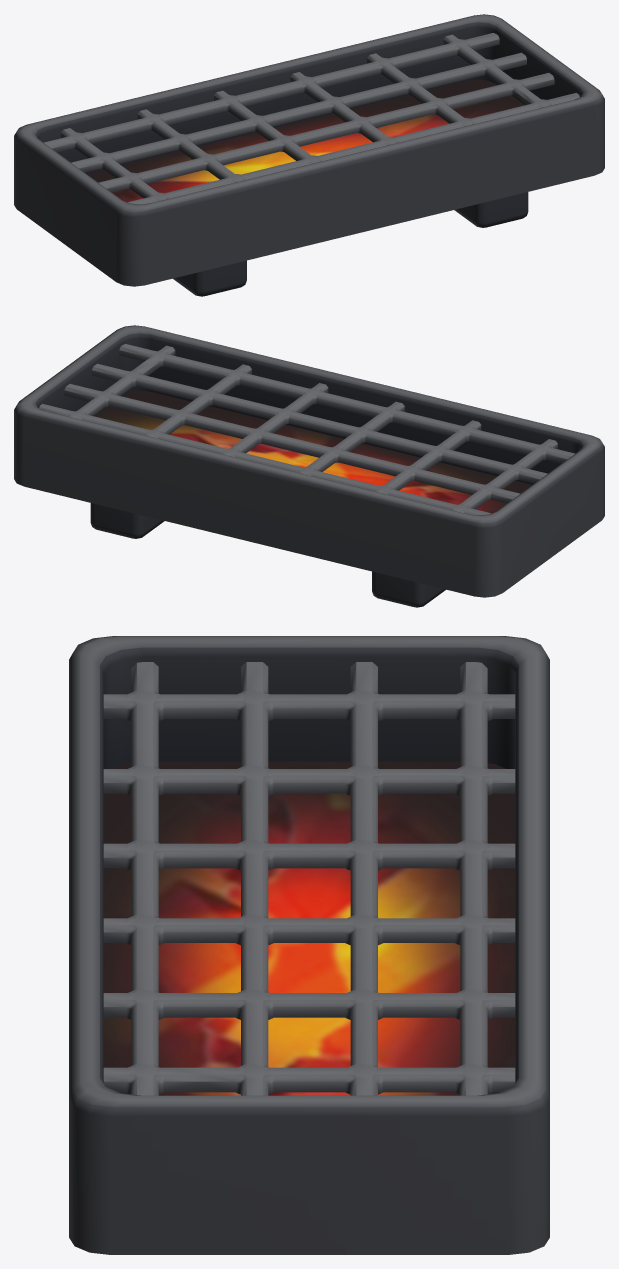
File: grill_short.fbx
3 views of the same model, one above another, from view 1: azimuth 30°, elevation 25°; view 2: azimuth 150°, elevation 25°; view 3: azimuth 270°, elevation 25° (orthographic). The views are drawn at different scales.
Parts seen in each view (by area): view 1: grill_short; view 2: grill_short; view 3: grill_short.
Part boxes in pixels (x1,y1,x2,y2): grill_short: [14, 14, 604, 296]; grill_short: [14, 325, 604, 607]; grill_short: [69, 636, 549, 1254].
Bounding box in the file's own units: 12.94 × 2.77 × 5.55.
